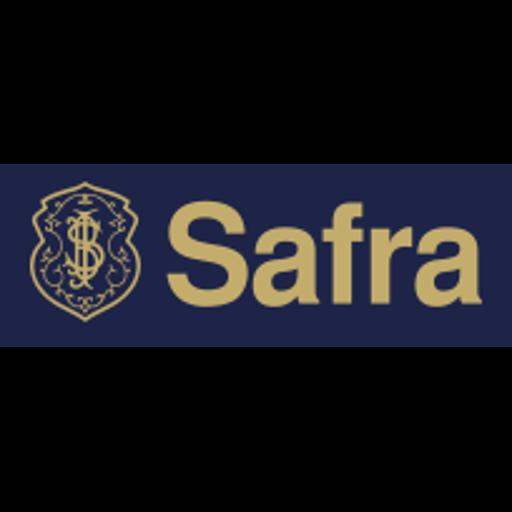Banco Safra: (0, 164, 512, 347)
